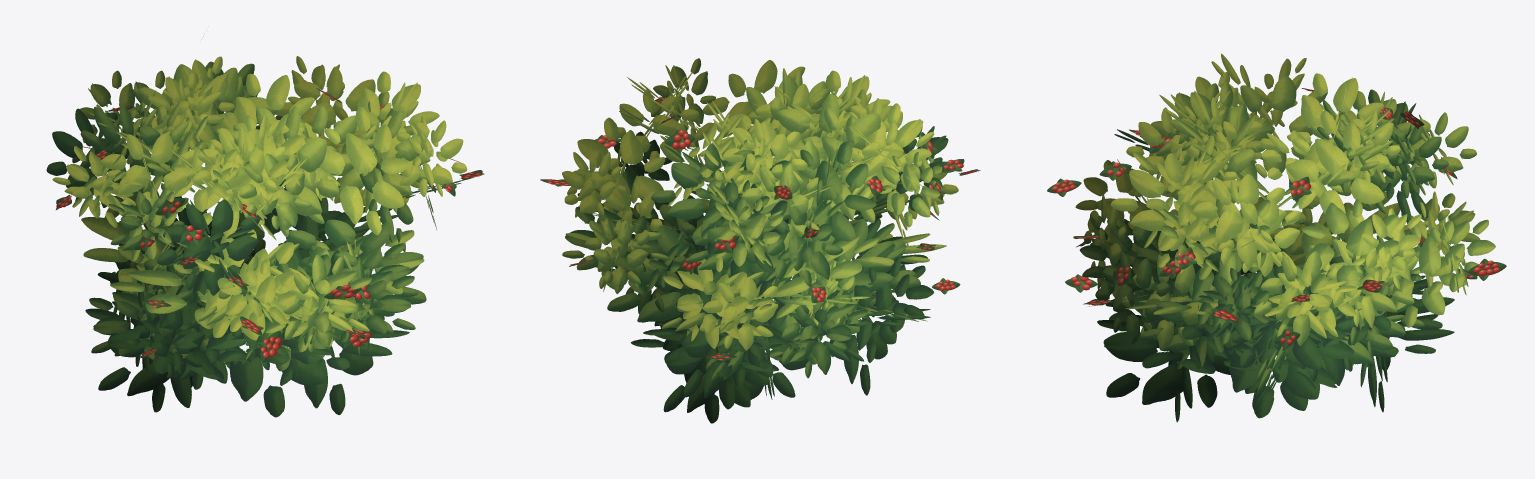
File: bush_berry.glb
The picture shows the model from 3 angles, left to right: view 1: azimuth 30°, elevation 25°; view 2: azimuth 150°, elevation 25°; view 3: azimuth 270°, elevation 25°; orthographic projection. The views are drawn at different scales.
Parts seen in each view (by area): view 1: bush_berry; view 2: bush_berry; view 3: bush_berry.
Part boxes in pixels (box(x1,y1,x2,y2)): bush_berry: box(46, 36, 484, 417); bush_berry: box(540, 58, 980, 423); bush_berry: box(1047, 53, 1506, 422).
Size of the model in its own units: 1.01 by 0.9 by 1.04.
2 materials, 2 textured.
